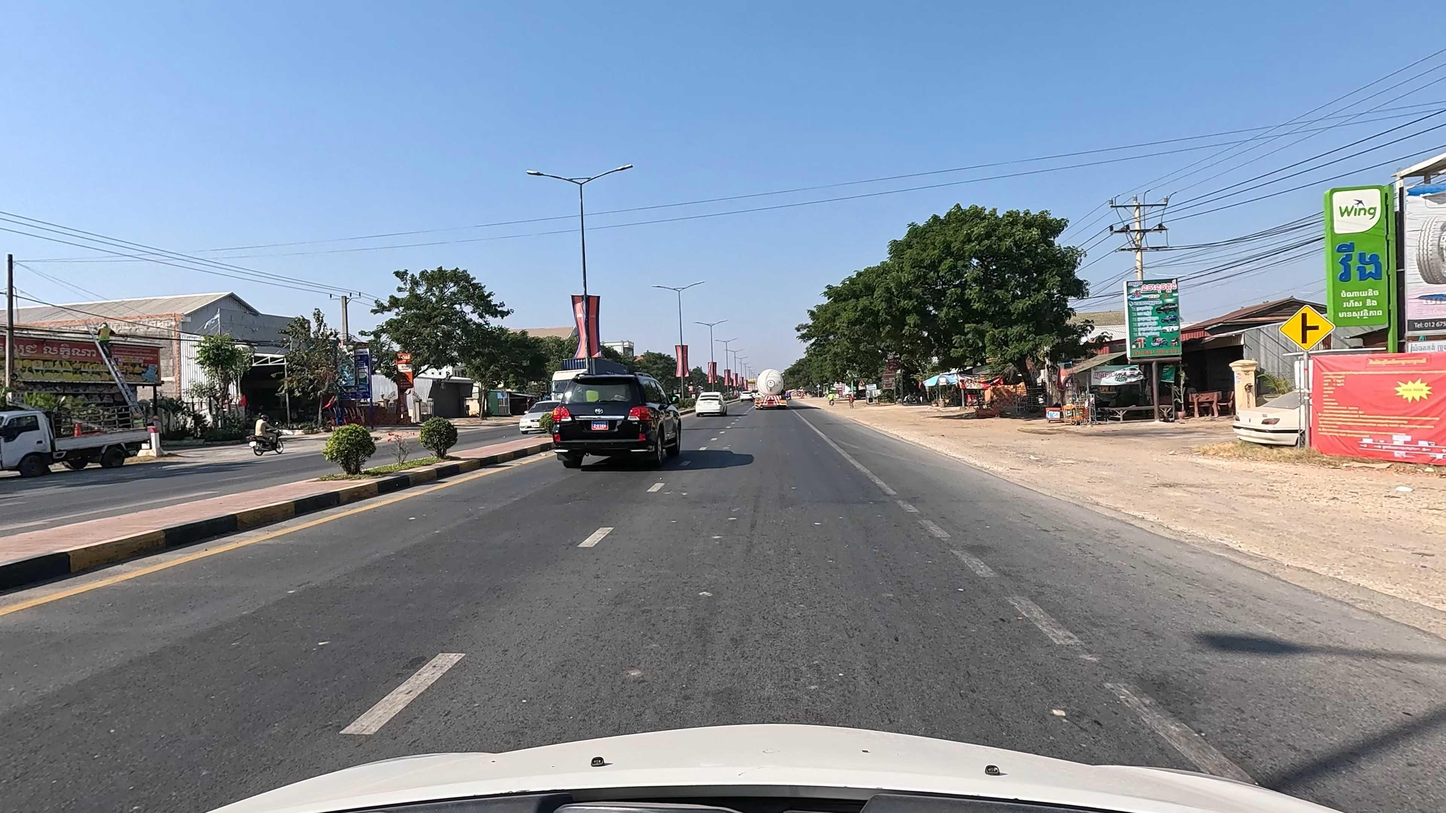side_road_junction_right: (1280, 304, 1337, 354)
